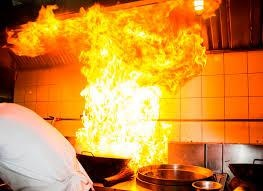fire: (71, 6, 210, 171)
